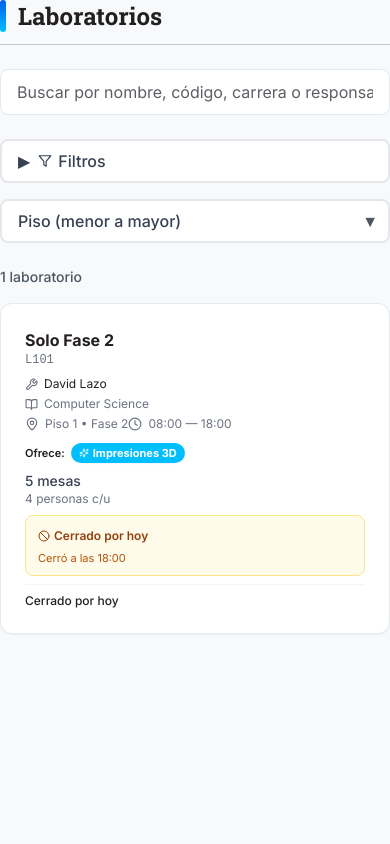
Test case: LaboratoriosPage › las secciones de filtro están SIEMPRE presentes (iguales para todos), aunque haya una sola opción
This screenshot has width=390, height=844.
Check: the heading "Solo Fase 2" is shown, box [25,330,114,350]
Click the button "▶ Filtros" at (82, 161), box [0,139,389,183]
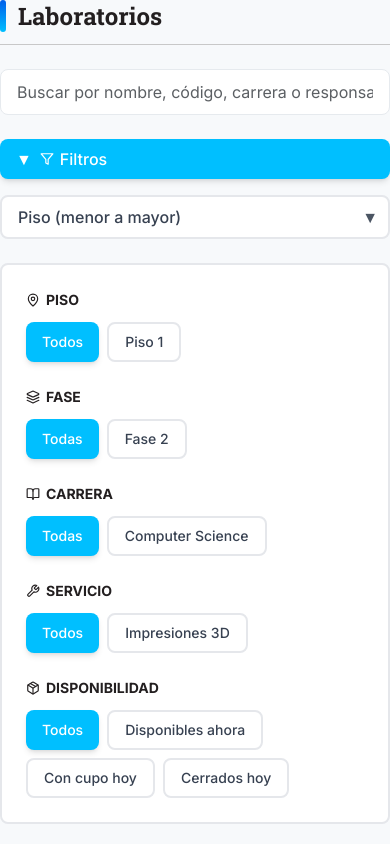
Check: the heading "Fase" is shown, box [26,387,81,407]
Check: the heading "Piso" is shown, box [26,290,79,310]
Check: the heading "Disponibilidad" is shown, box [26,678,159,698]
